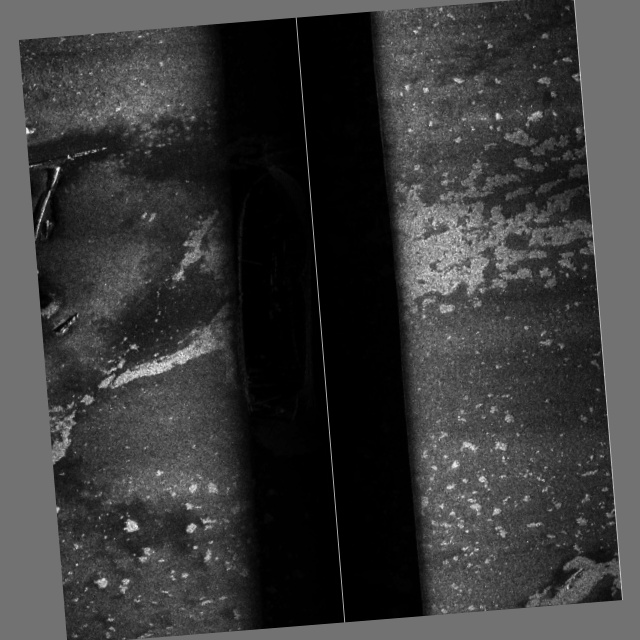Shipwreck: (27, 131, 327, 445)
